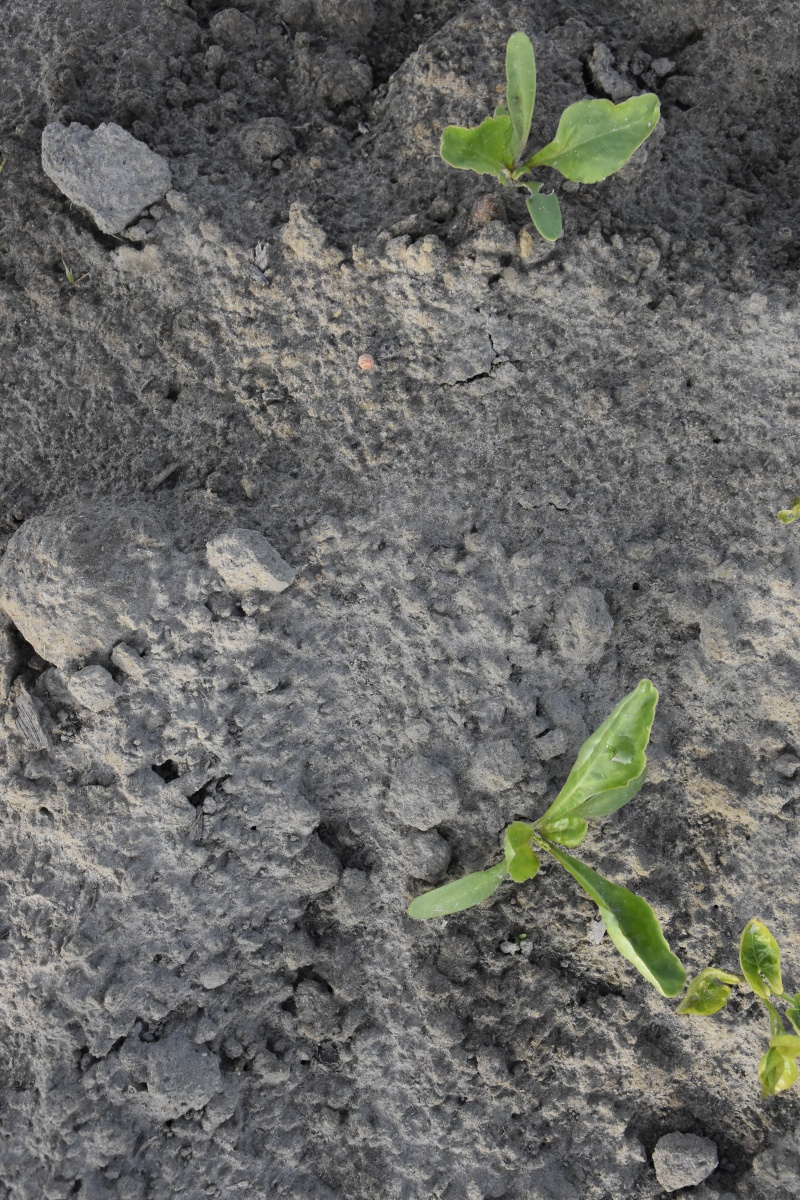field bindweed: (676, 922, 800, 1077)
sugar beet: (408, 682, 680, 1001), (437, 31, 667, 269)
